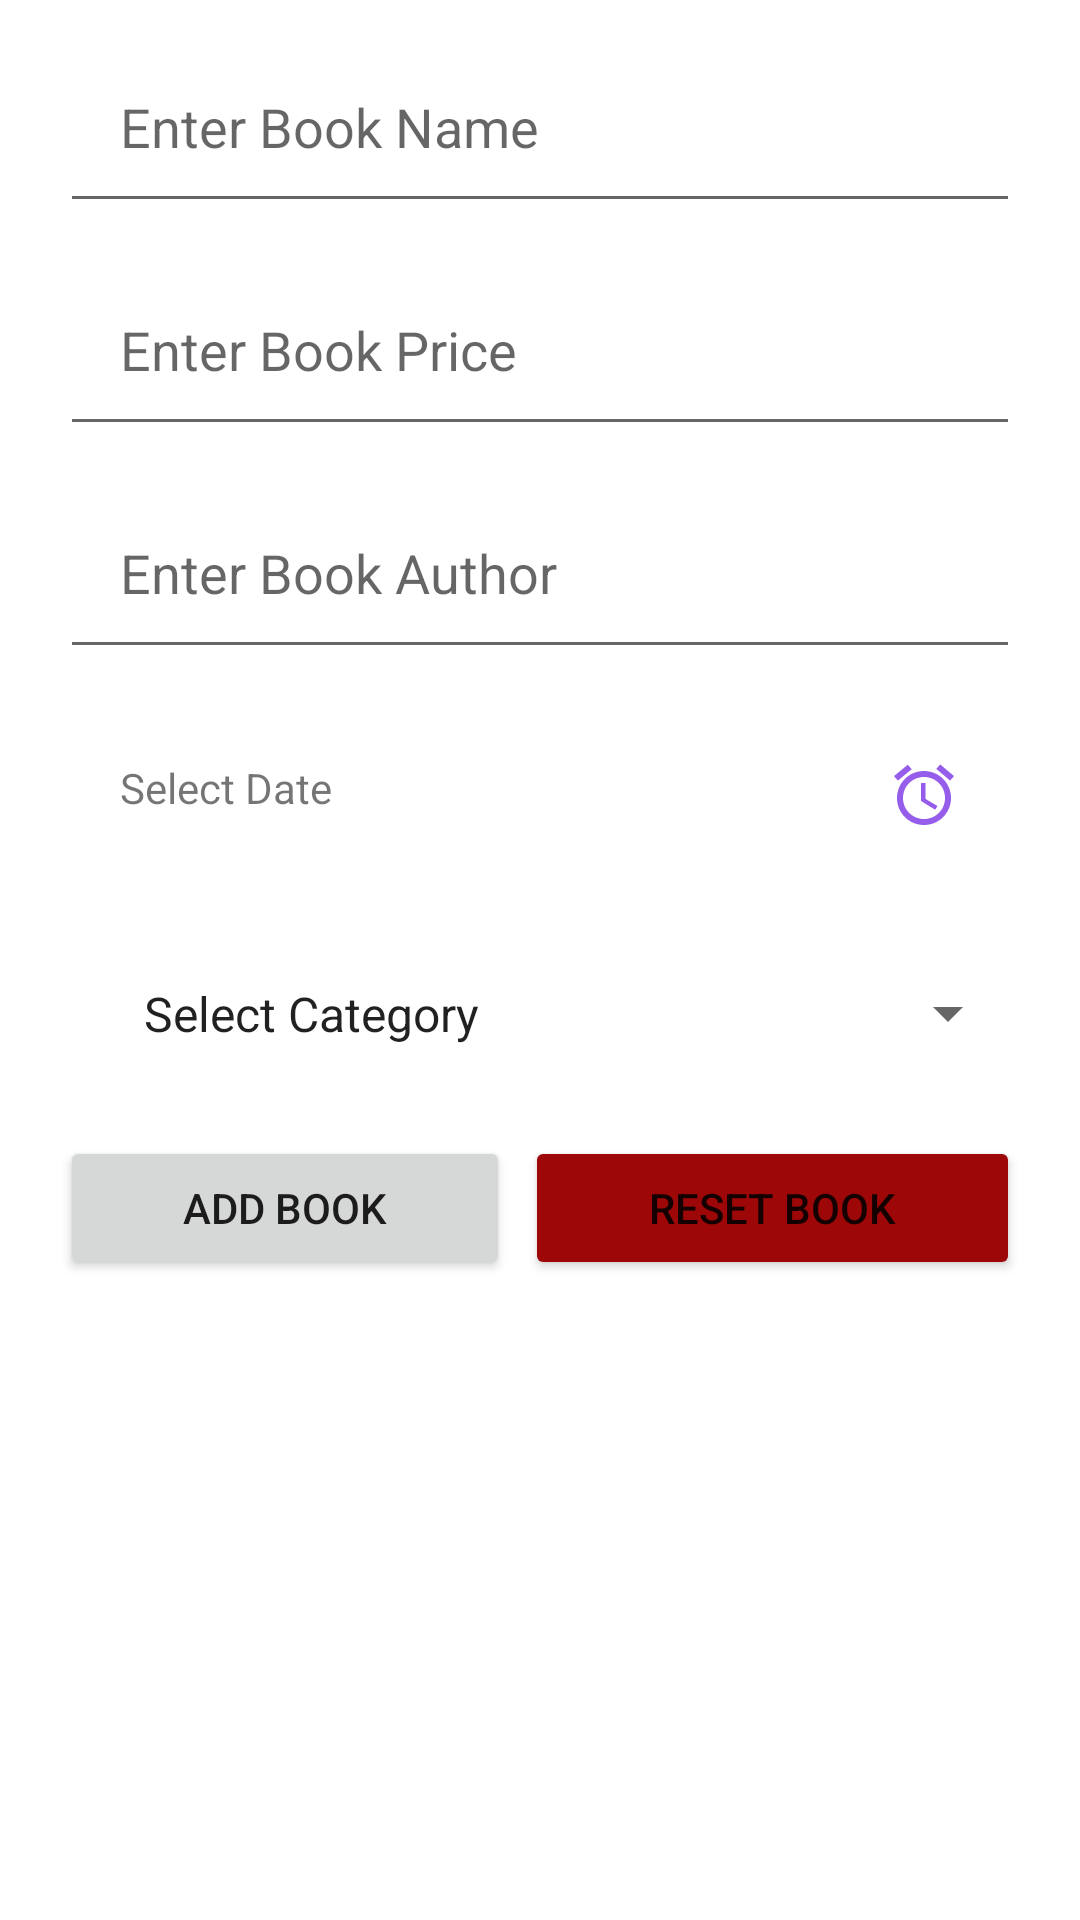

Where to tap for icons on this 1080w x 1920h app screen, as [x,y]:
time: [924,794]
